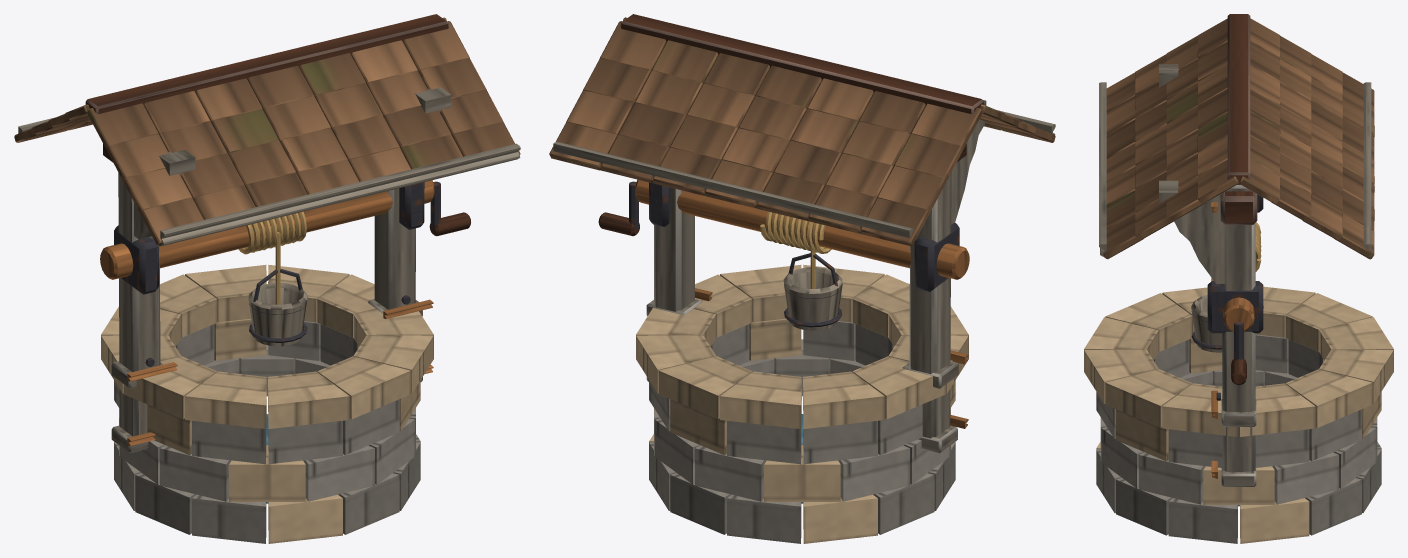
The model's file is SM_Well.obj.
The picture shows the model from 3 angles, left to right: view 1: azimuth 30°, elevation 25°; view 2: azimuth 150°, elevation 25°; view 3: azimuth 270°, elevation 25°; orthographic projection. The views are drawn at different scales.
Parts seen in each view (by area): view 1: SM_Well; view 2: SM_Well; view 3: SM_Well.
Boxes of the visible parts, bbox=[...] form: SM_Well: bbox=[14, 14, 520, 543]; SM_Well: bbox=[549, 14, 1055, 543]; SM_Well: bbox=[1084, 14, 1393, 543].
Bounding box in the file's own units: 2.36 × 2.47 × 1.78.
Materials: 1 (1 with a texture image).
